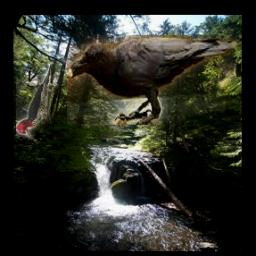Crow: (68, 36, 238, 126)
Woodpecker: (17, 64, 52, 140)
